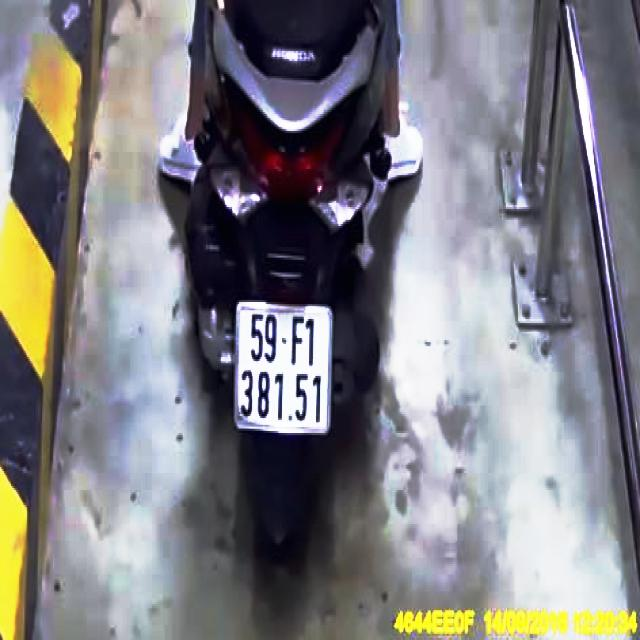license_plate: (236, 305, 333, 440)
